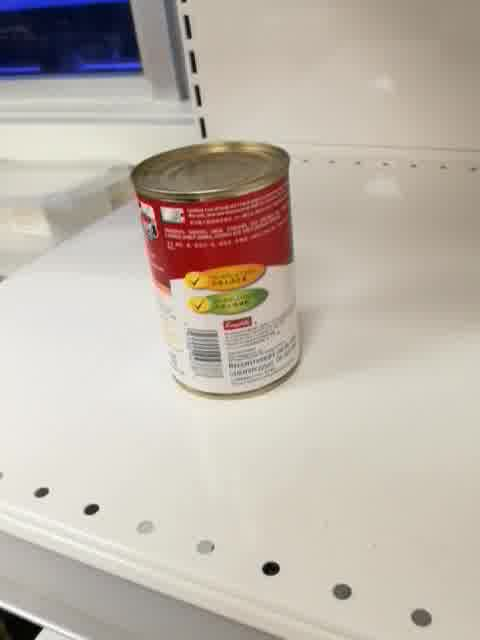tomatosoup: (127, 140, 302, 400)
